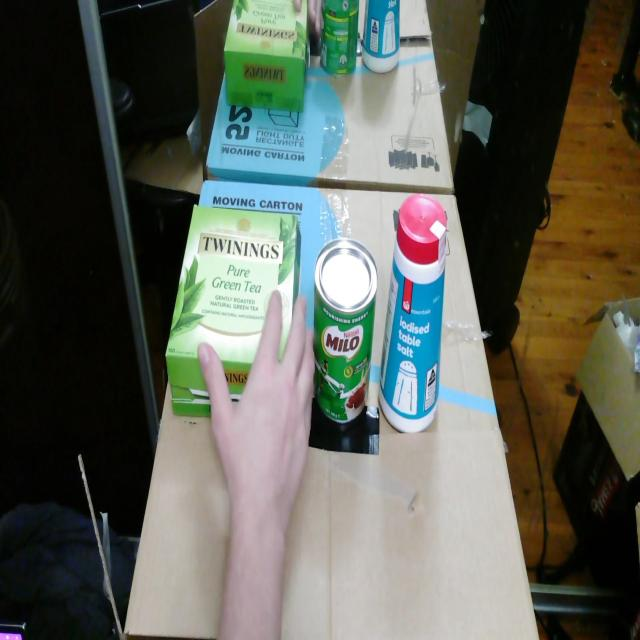nestle_milo_tin: (314, 238, 378, 424)
twinings_greentea_box: (166, 206, 301, 417)
woolworths_salt_bottle: (378, 194, 447, 433)
